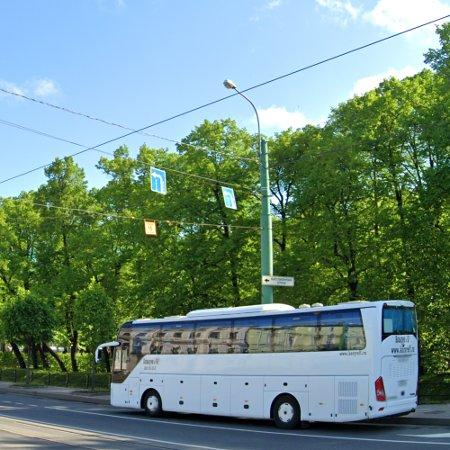buses: (106, 303, 420, 428)
